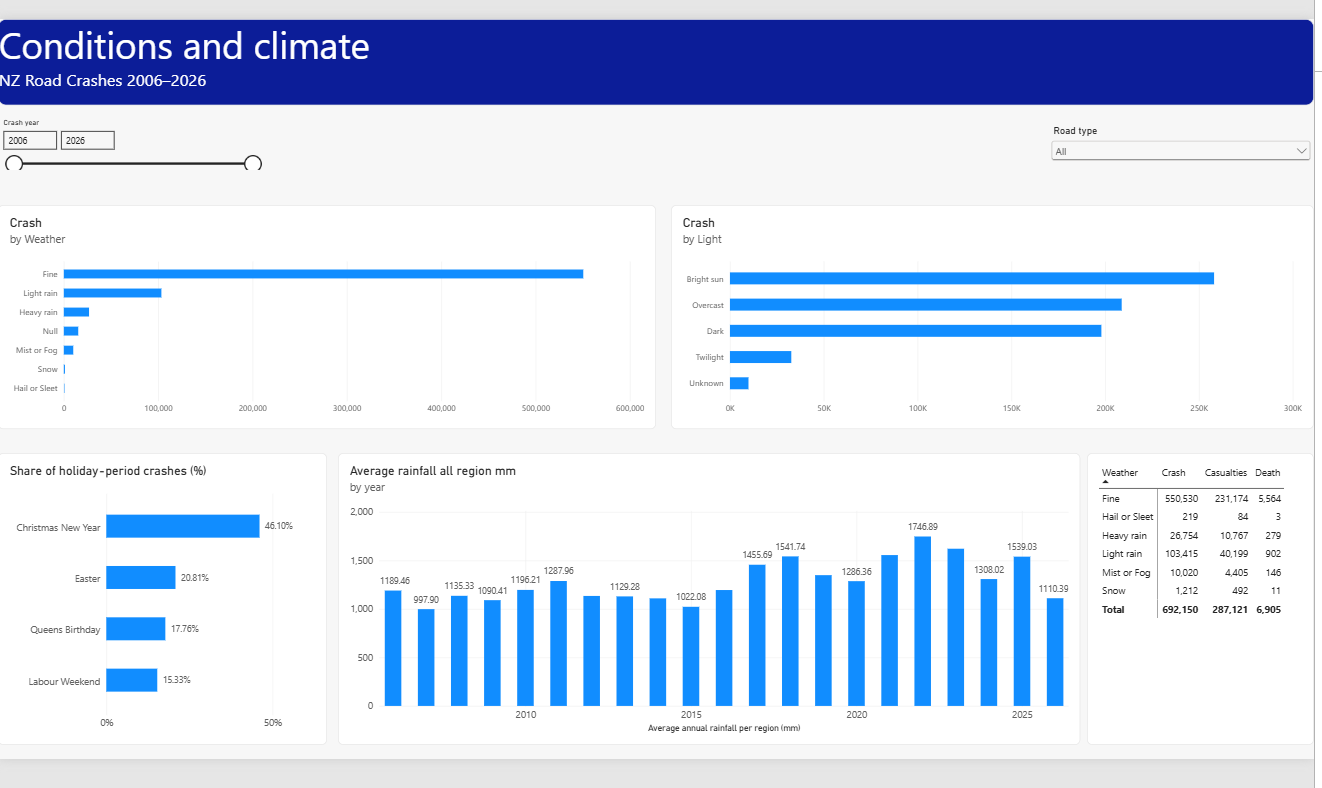

The dashboard page shown, as its layout file describes it:
{"tool":"powerbi","page":{"name":"Conditions and climate","canvas":[1920,1080],"ordinal":3},"visuals":[{"type":"textbox","box":[0,0,1920.4,125.6],"z":0},{"type":"slicer","fields":{"Values":["dbt fct_nz_traffic_crash.crash_year"]},"box":[0,144.4,388.1,75.9],"z":1000},{"type":"slicer","fields":{"Values":["dbt fct_nz_traffic_crash.road_type"]},"box":[1531.9,154.7,388.1,65.7],"z":2000},{"type":"clusteredBarChart","fields":{"Category":["dbt fct_nz_traffic_crash.weather_a"],"Y":["CountNonNull(dbt fct_nz_traffic_crash.crash_id)"]},"box":[0,271.4,960,326.8],"z":4000},{"type":"clusteredBarChart","fields":{"Category":["dbt fct_nz_traffic_crash.light_description"],"Y":["CountNonNull(dbt fct_nz_traffic_crash.crash_id)"]},"box":[981.9,271.4,938.1,326.8],"z":5000},{"type":"clusteredBarChart","title":"Share of holiday-period crashes (%)","fields":{"Category":["dbt fct_nz_traffic_crash.holiday_name"],"Y":["dbt fct_nz_traffic_crash.% of Holiday Crashes"]},"box":[0,633.2,480,426],"z":6000},{"type":"clusteredColumnChart","fields":{"Category":["dbt dim_regional_climate.year"],"Y":["Avg(dbt dim_regional_climate.total_rainfall_mm)"]},"box":[496,633.2,1082.6,426],"z":7001},{"type":"pivotTable","fields":{"Rows":["dbt fct_nz_traffic_crash.weather_a"],"Values":["Count(dbt fct_nz_traffic_crash.crash_id)","Sum(dbt fct_nz_traffic_crash.total_casualties)","Sum(dbt fct_nz_traffic_crash.fatal_count)"]},"box":[1588.8,633.2,331.2,426],"z":7002}]}

Visuals, with their boxes on the page's 1920x1080 design canvas (x1, y1, x2, y2). These are canvas units, not pixel positions in the 1322x788 screenshot, which may show the page scaled, cropped or inside an application window:
textbox: [0, 0, 1920, 126]
slicer - dbt fct_nz_traffic_crash.crash_year: [0, 144, 388, 220]
slicer - dbt fct_nz_traffic_crash.road_type: [1532, 155, 1920, 220]
clusteredBarChart - dbt fct_nz_traffic_crash.weather_a x CountNonNull(dbt fct_nz_traffic_crash.crash_id): [0, 271, 960, 598]
clusteredBarChart - dbt fct_nz_traffic_crash.light_description x CountNonNull(dbt fct_nz_traffic_crash.crash_id): [982, 271, 1920, 598]
"Share of holiday-period crashes (%)" clusteredBarChart: [0, 633, 480, 1059]
clusteredColumnChart - dbt dim_regional_climate.year x Avg(dbt dim_regional_climate.total_rainfall_mm): [496, 633, 1579, 1059]
pivotTable - dbt fct_nz_traffic_crash.weather_a x Count(dbt fct_nz_traffic_crash.crash_id): [1589, 633, 1920, 1059]
